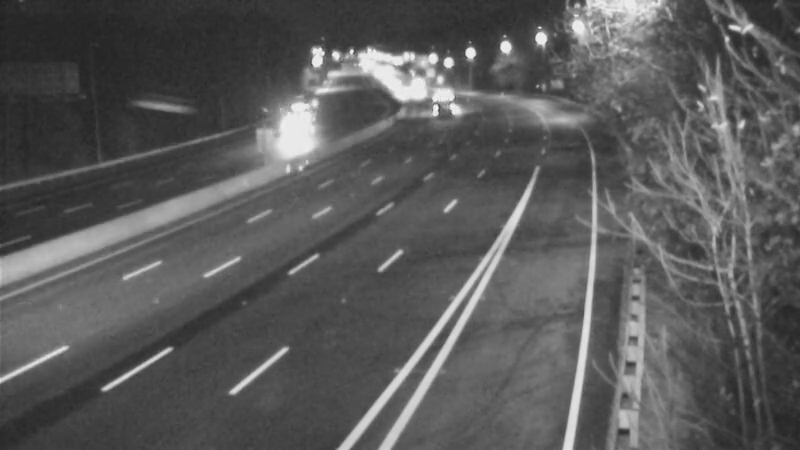vehicle: (377, 71, 427, 121), (418, 81, 468, 131), (272, 113, 322, 163)
